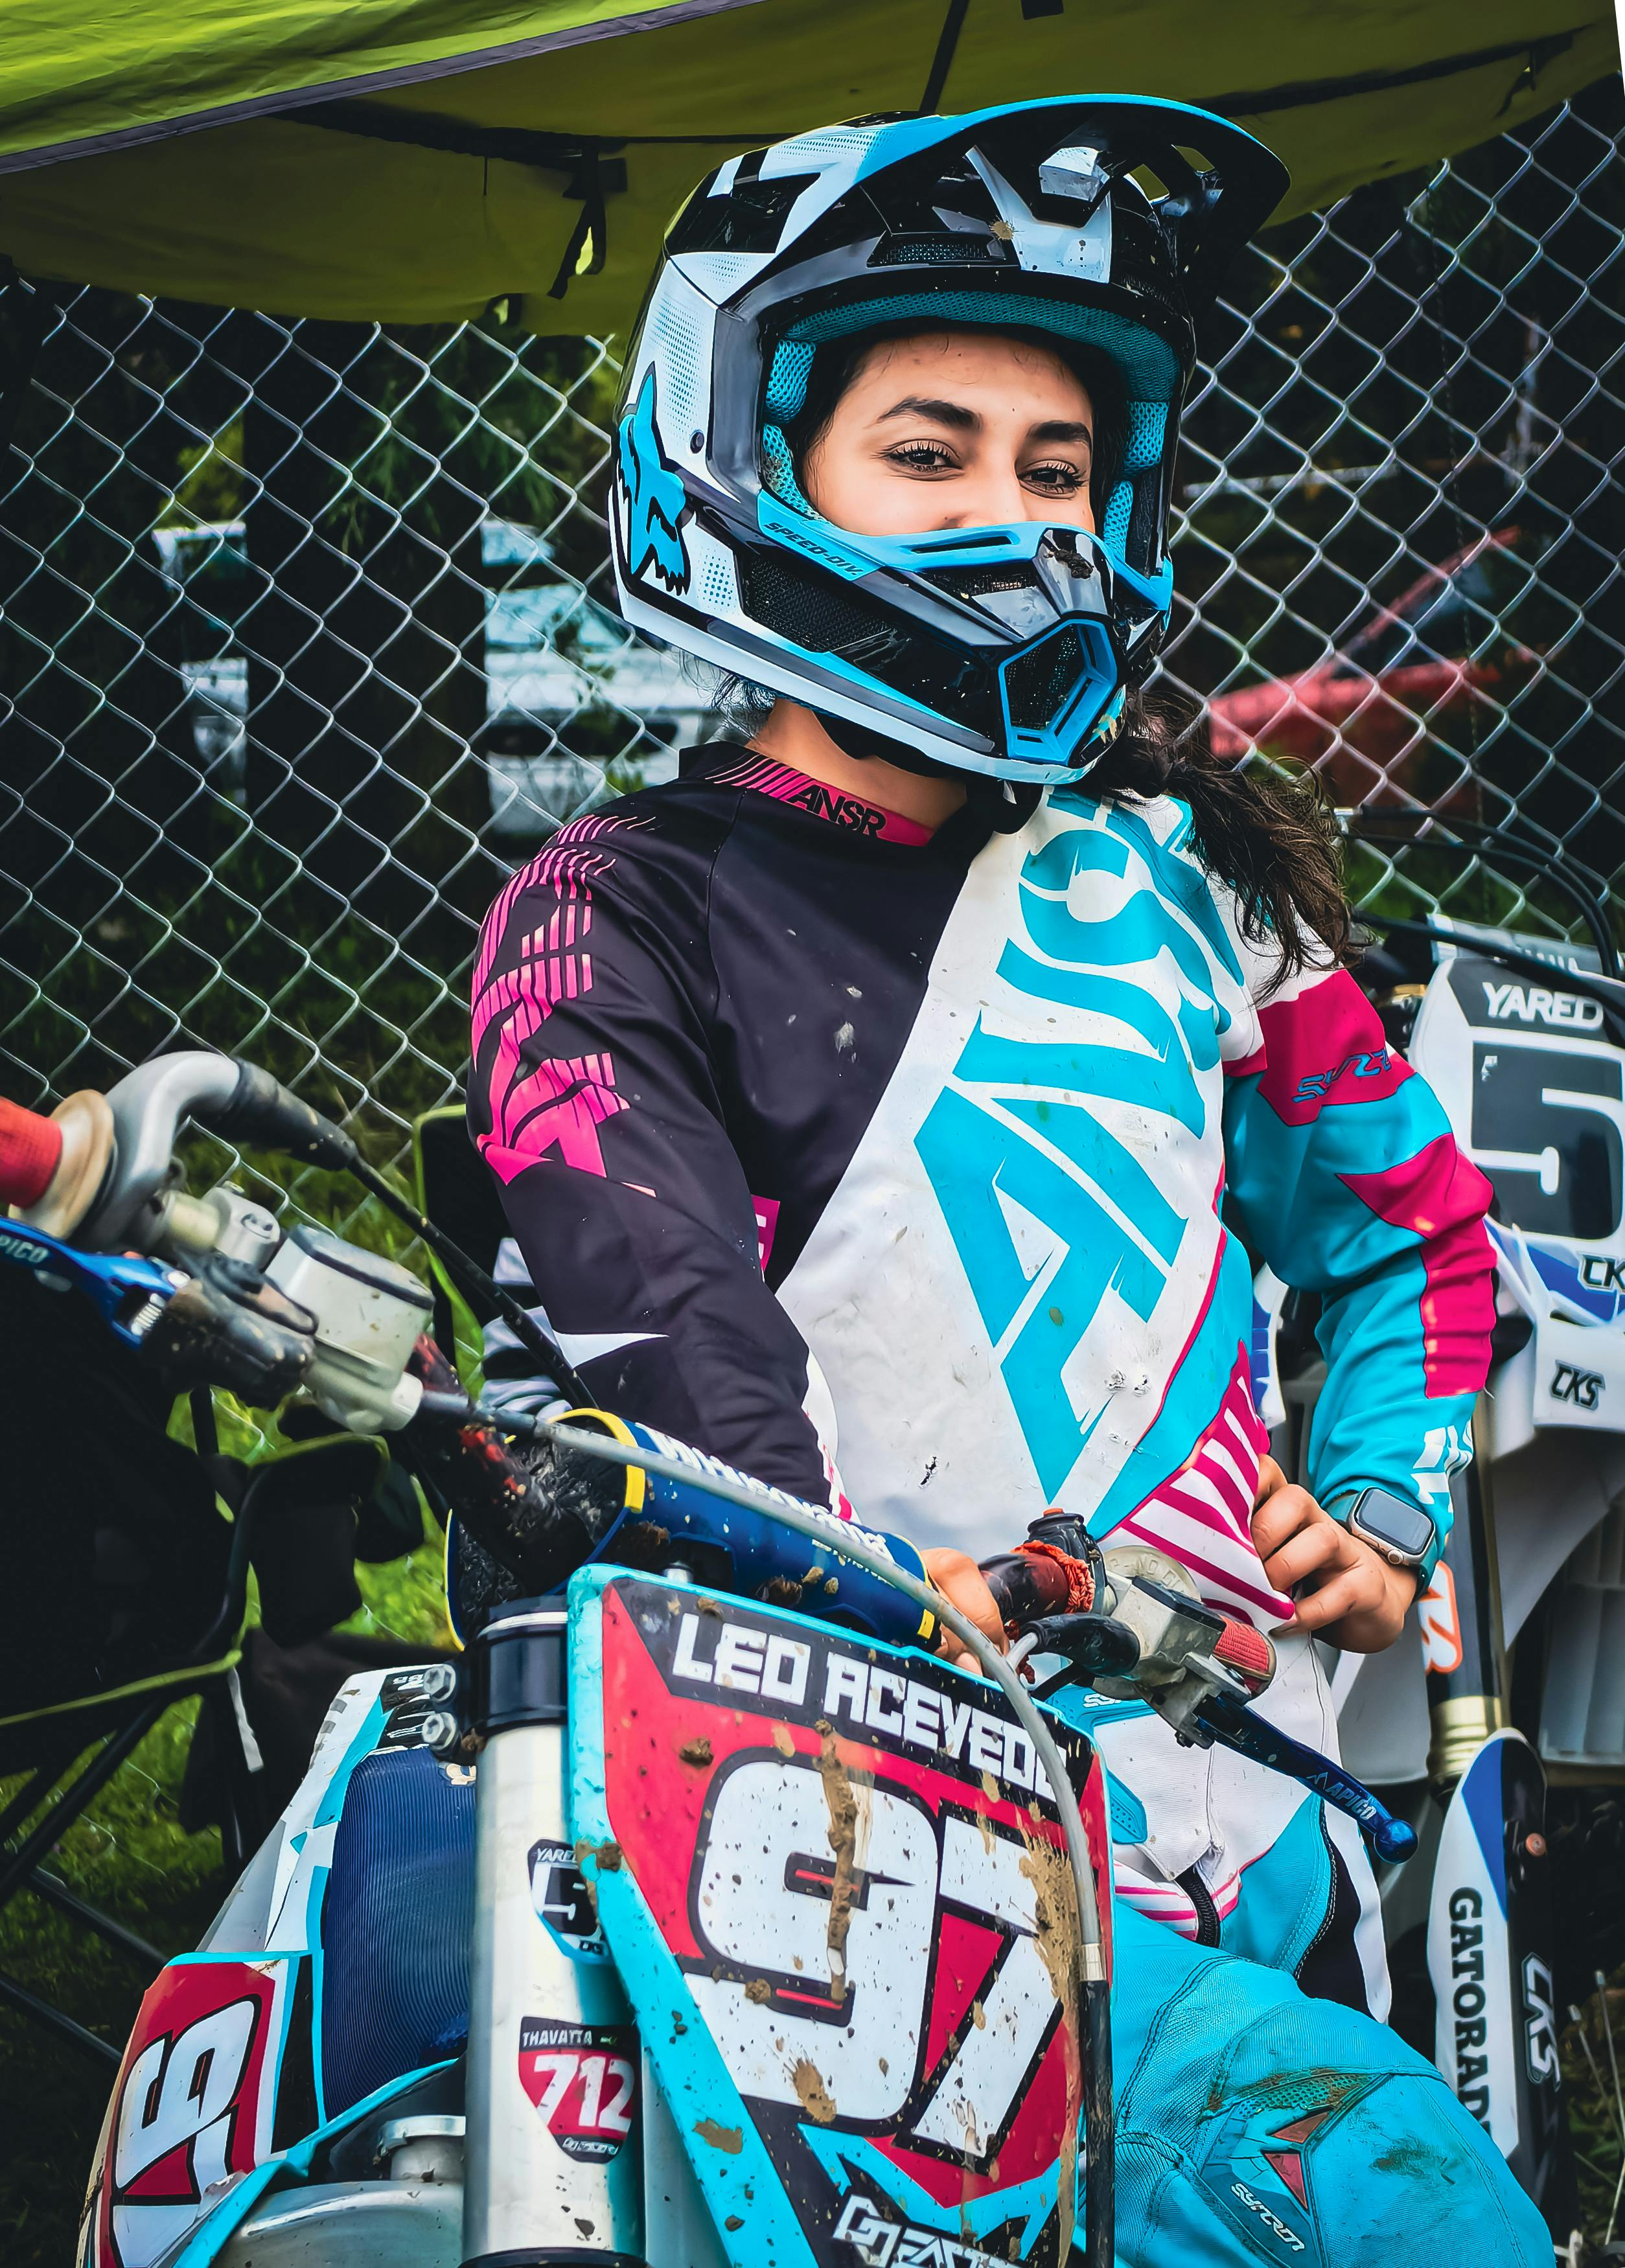capacete: (586, 84, 1294, 793)
